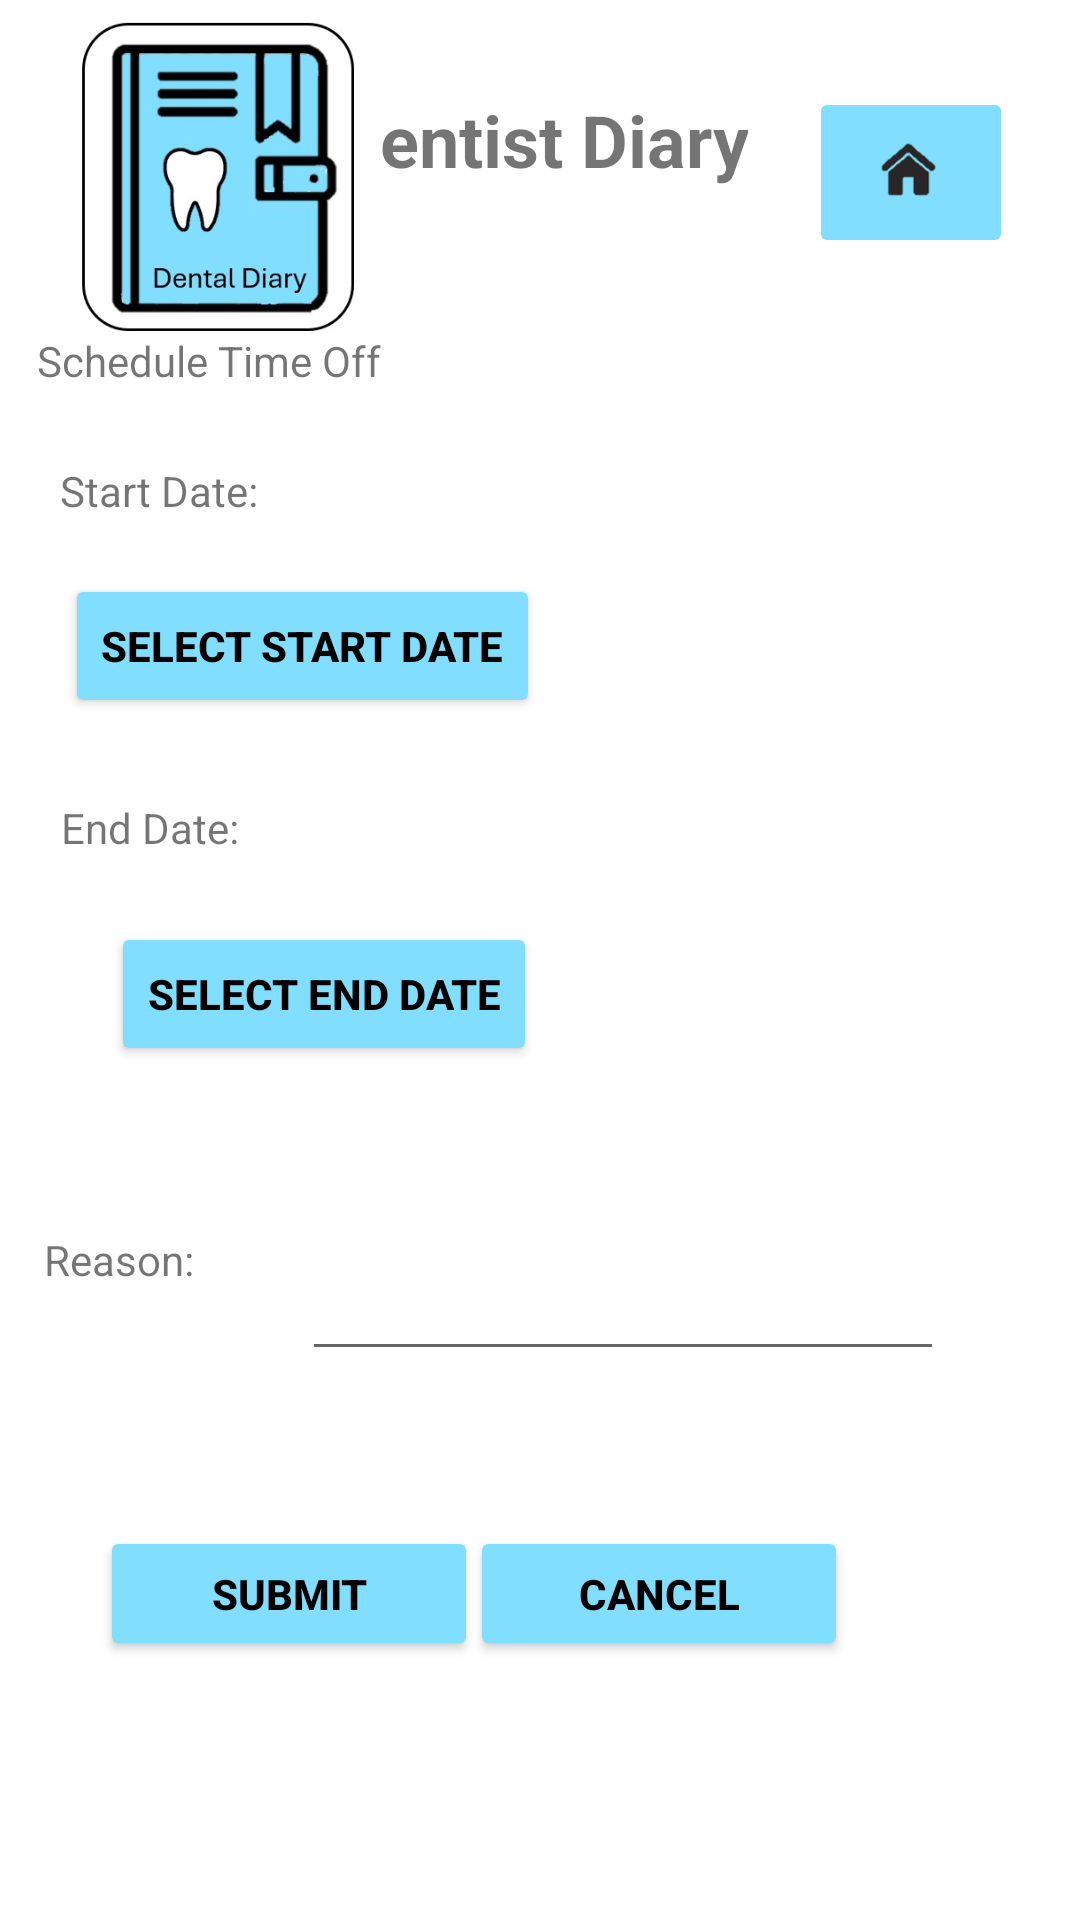

Screen size 1080×1920. Icon name, then its box in pixels as [x1,y1,x2,y2]:
home: [821,105,1001,240]
